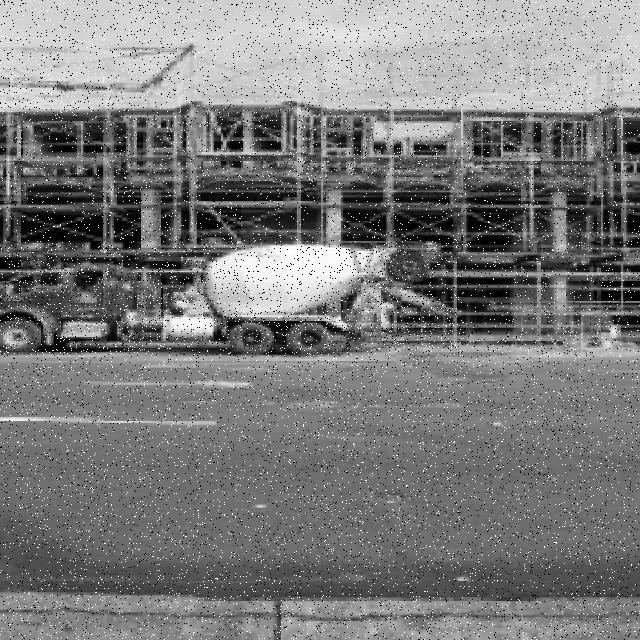Concrete Mixer: (0, 245, 463, 355)
